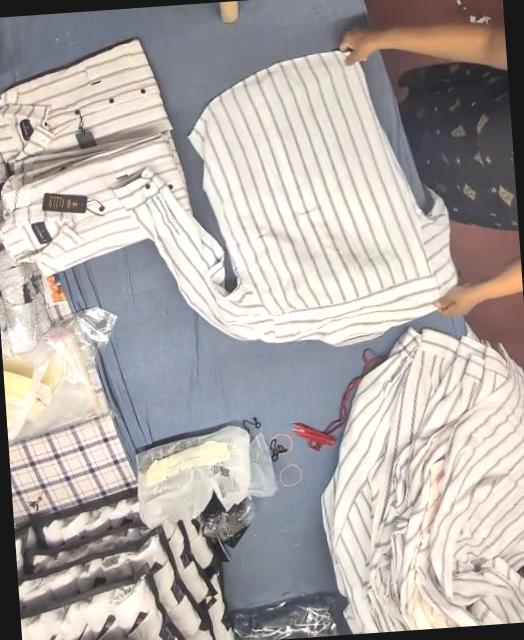new-garment: (123, 51, 455, 344)
